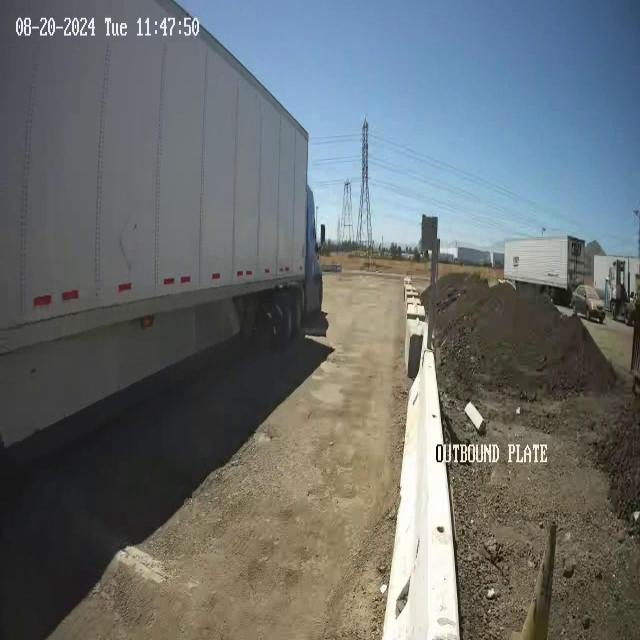TRUCK_IN: (0, 1, 326, 450)
